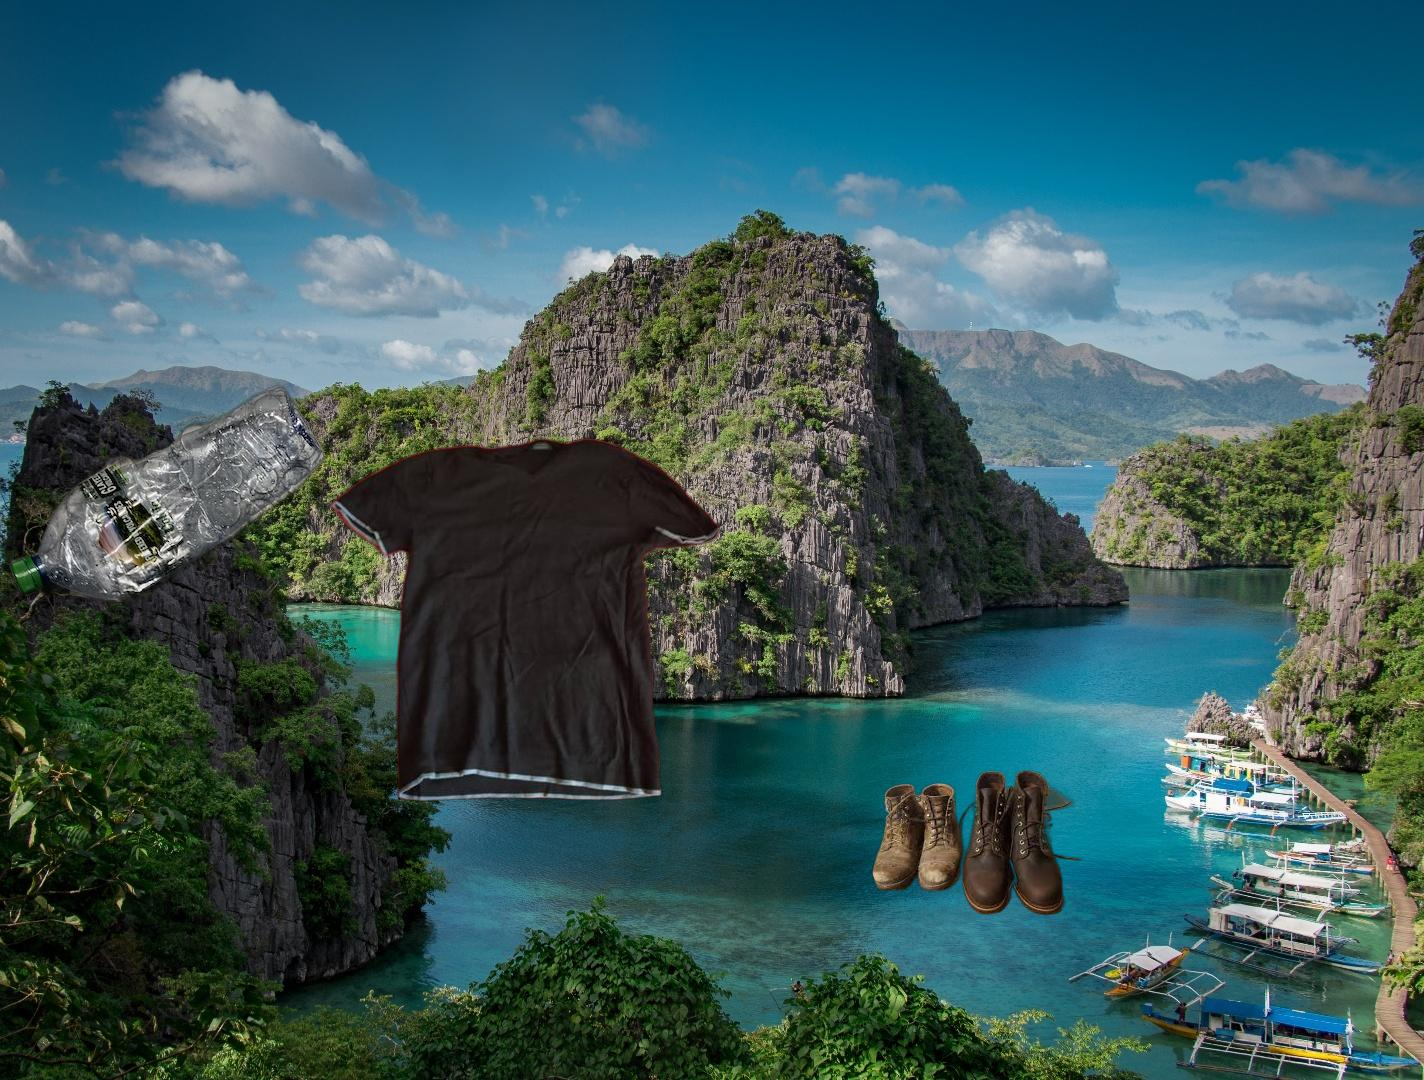clothes: (326, 434, 725, 805)
plastic-bottles: (5, 380, 332, 613)
shoes: (869, 765, 1087, 918)
trashbox-cardboard: (312, 990, 824, 1080)
